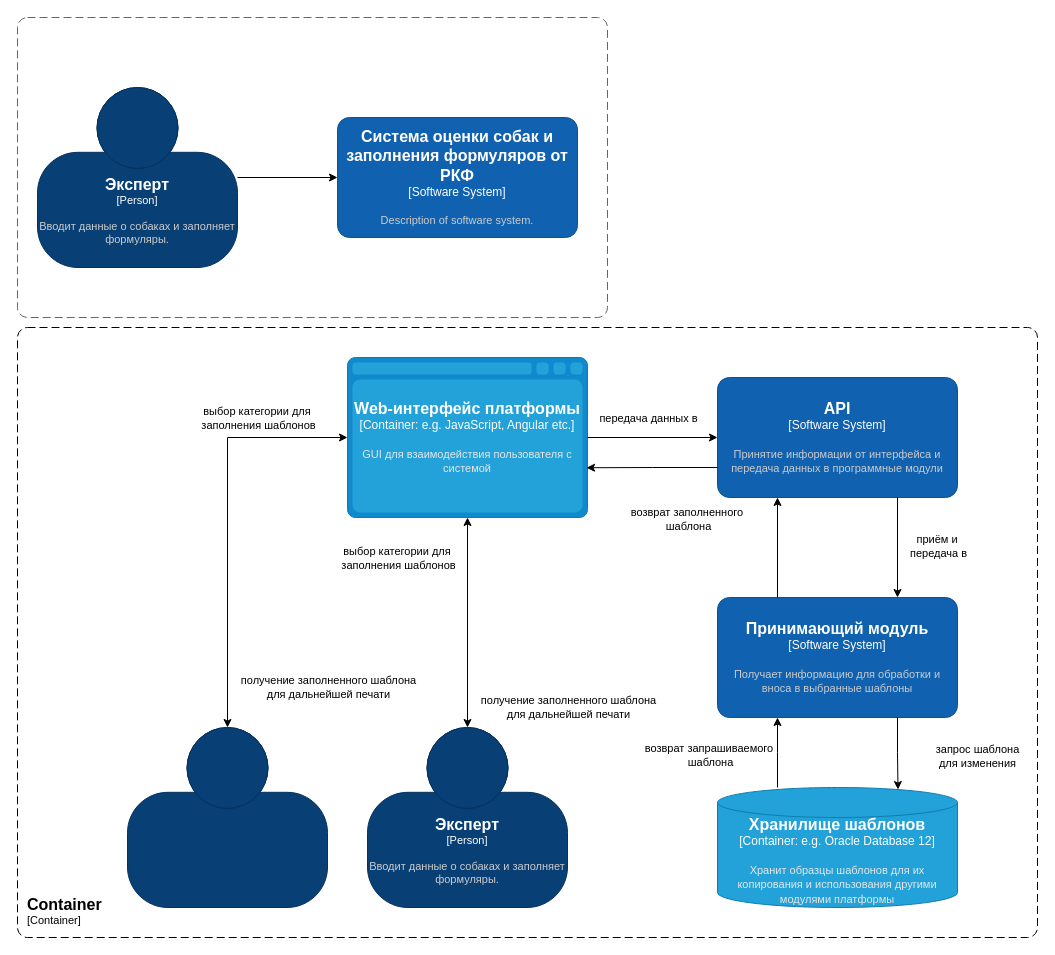
Image size: 1055x955. Some labels were removed from this diagram. Here are the shapes that lost their labels. From the top down, the box of each, then its label:
(16, 16, 608, 318): Context [Container]
(126, 726, 328, 908): Преподаватель [Person] Создаёт экзаменационные билеты
